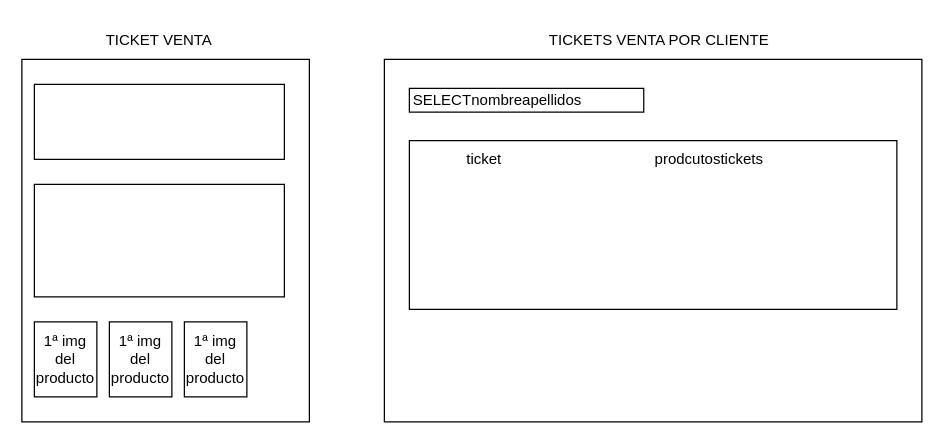
Some shapes in this 944 by 444 pixel diagram are drawn without their labels. The centre of each missing label's shape, as x and y in pixels:
"datos del cliente" belongs at (158,121).
"productos del ticket" belongs at (158,240).
